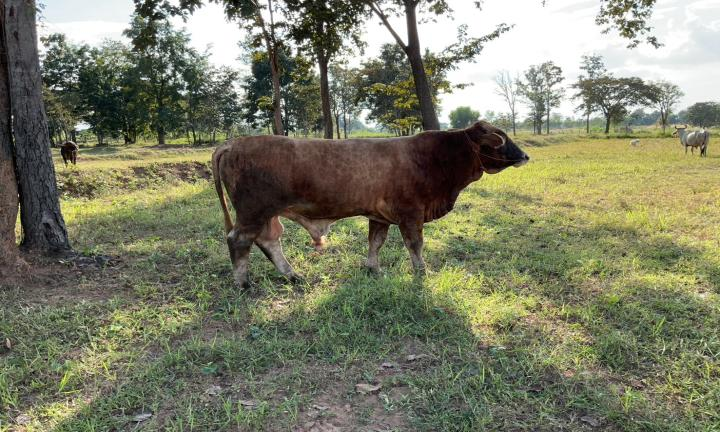Charolais: (213, 121, 529, 287)
